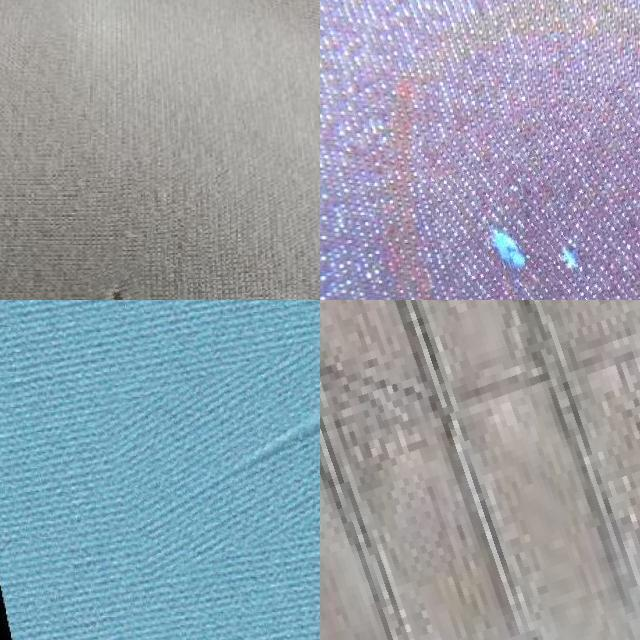Stitch: (320, 300, 640, 640)
Thread_other: (102, 315, 320, 552), (426, 93, 640, 300)
seam: (85, 259, 153, 300)
